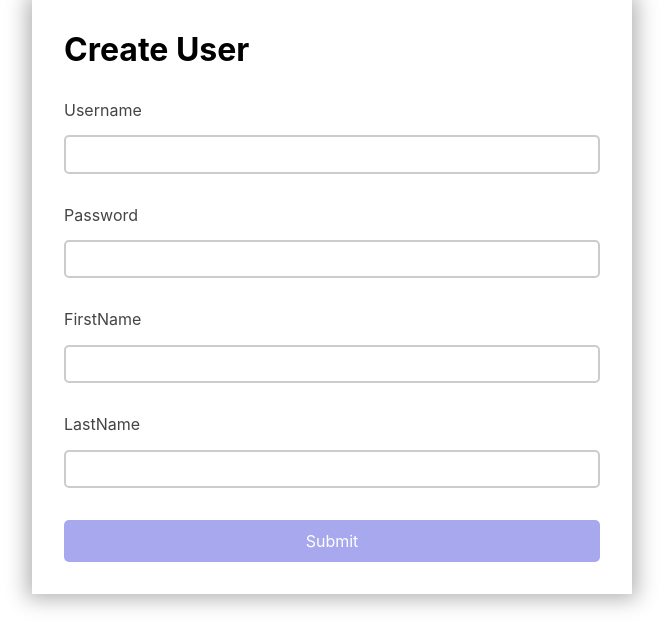
it: Form Errors › Should not be able to submit with empty password when no data prop is passed in
This screenshot has width=665, height=628.
Type "TCSEmployee1" into the field labelled "Username" at {"x": 332, "y": 154}, box [64,135,600,174]
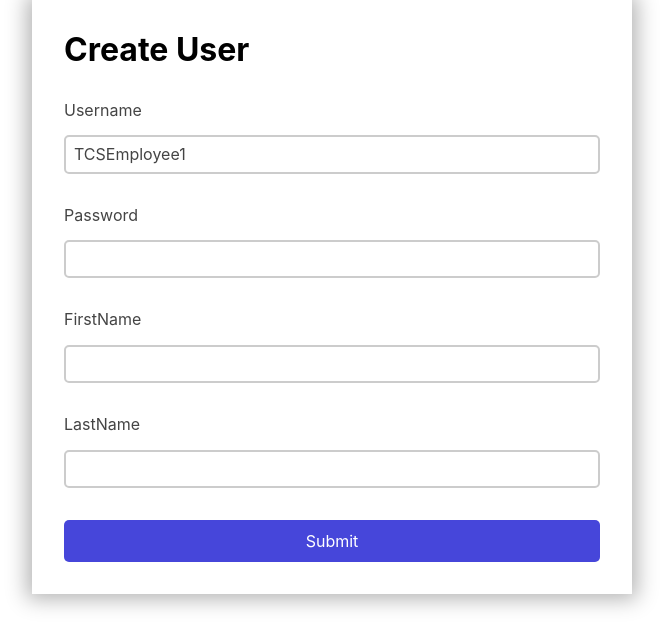
Type "Test" into the field labelled "firstName" at {"x": 332, "y": 364}, box [64,345,600,383]
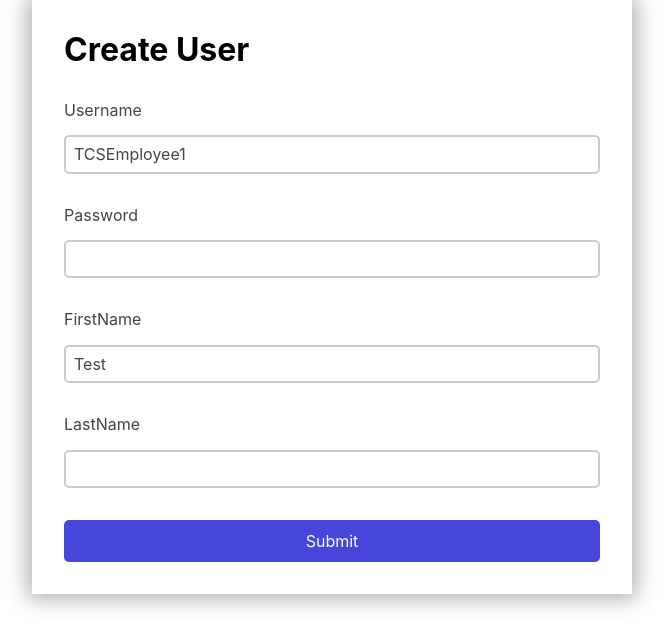
Type "User" into the field labelled "lastName" at {"x": 332, "y": 469}, box [64,450,600,488]
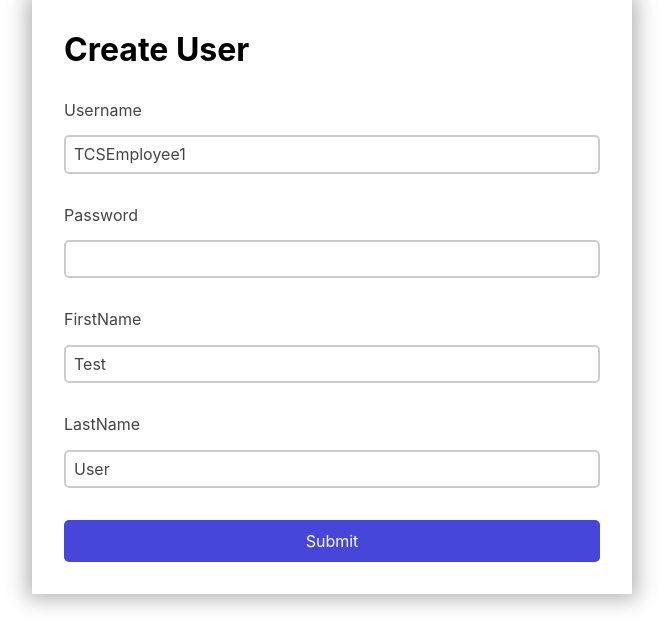
Leave the password field labelled "Password", box [64,240,600,278]
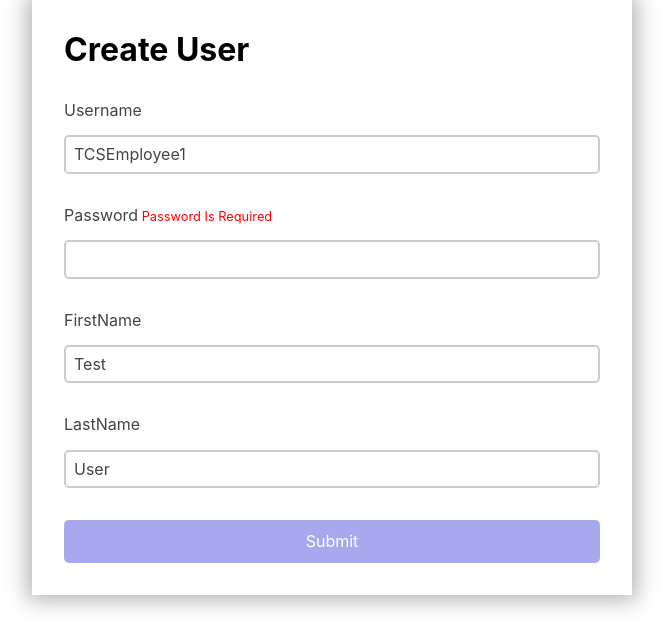
Expected: the text "Password is required" is shown, [138,209,272,224]
Expected: the button "Submit" is disabled, [64,520,600,563]
